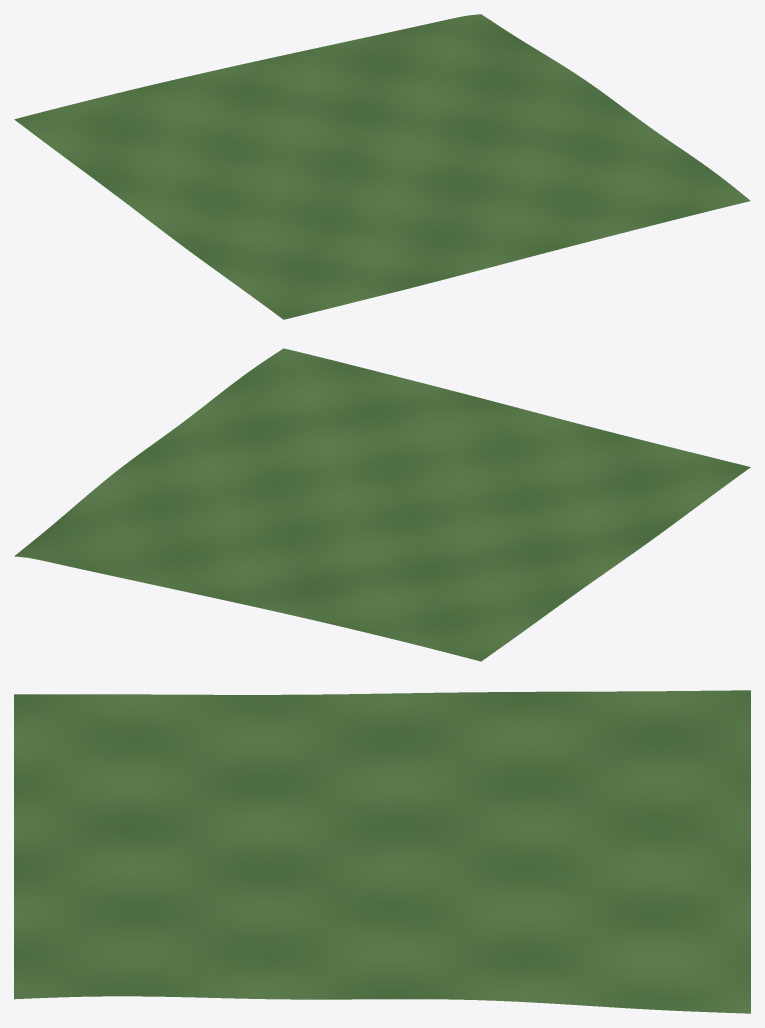
Rendered from chunk_4_10.glb.
The picture shows the model from 3 angles, top to bottom: view 1: azimuth 30°, elevation 25°; view 2: azimuth 150°, elevation 25°; view 3: azimuth 270°, elevation 25°; orthographic projection. The views are drawn at different scales.
Bounding box in the file's own units: 512 × 13.28 × 512.
